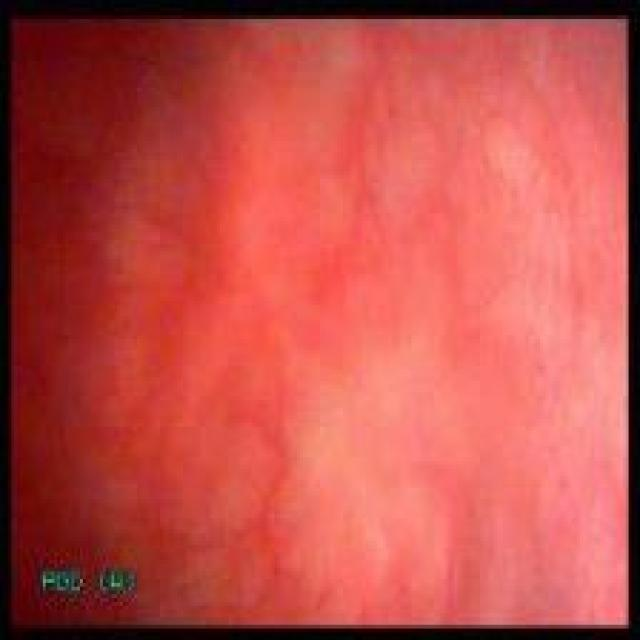blur: (12, 20, 627, 627)
color misalignment: (37, 564, 83, 598), (93, 567, 138, 598)
contrast: (13, 480, 153, 624), (13, 22, 152, 151), (12, 156, 90, 307)
